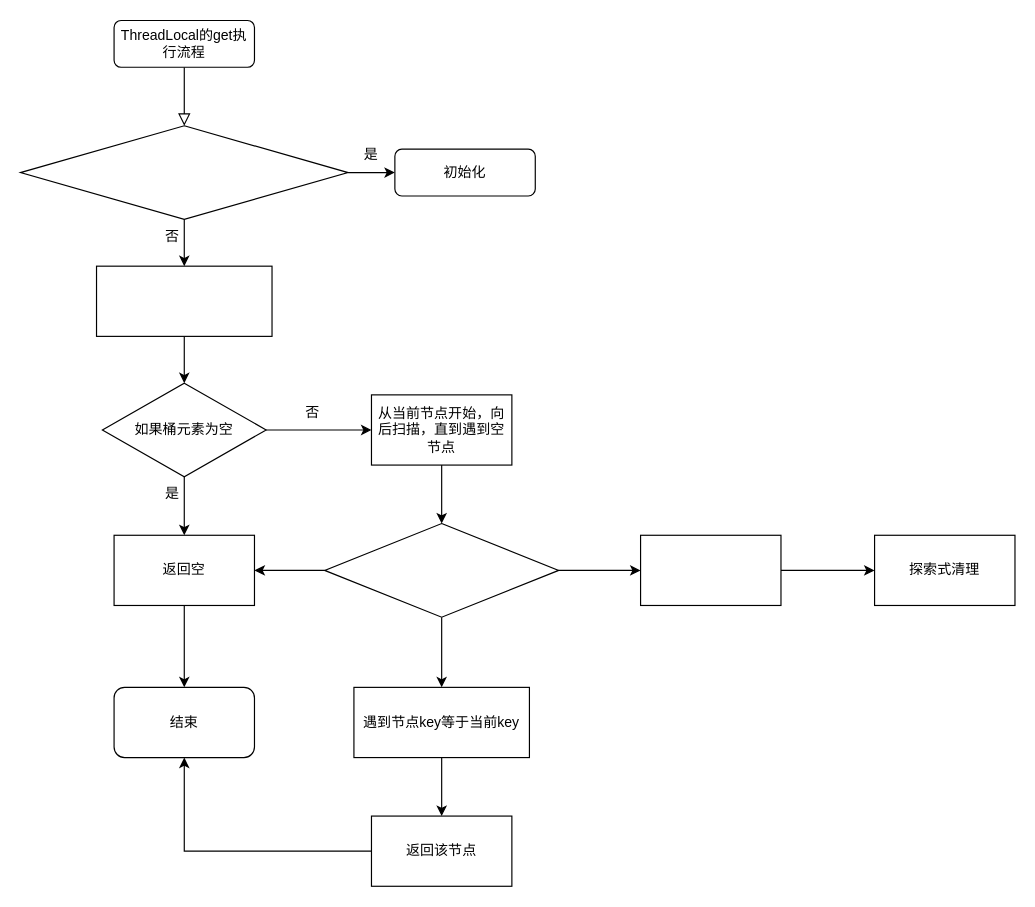
Image size: 1035x907. Some labels were removed from this diagram. The centre of each missing label's shape, as x and y in pixels:
当前线程的ThreadLocalMap是否为空: (x=183, y=172)
计算当前ThreadLocal的哈希值所对应桶的位置: (x=183, y=300)
遇到节点: (x=441, y=569)
遇到过期节点: (x=710, y=569)
